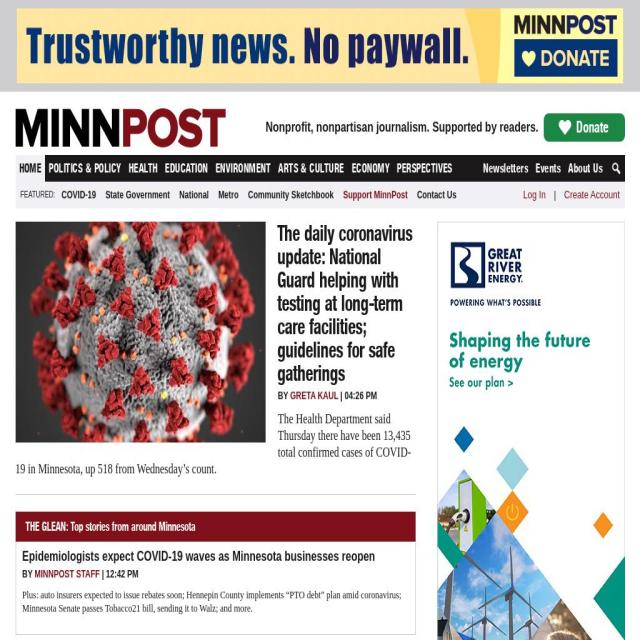button: (15, 222, 266, 446), (15, 511, 416, 542), (15, 108, 226, 151), (543, 112, 625, 142), (45, 154, 125, 182), (274, 154, 348, 182), (211, 154, 275, 182), (393, 154, 456, 182), (480, 154, 532, 182), (161, 154, 212, 182), (348, 154, 393, 182), (564, 154, 607, 182), (124, 154, 162, 182), (532, 154, 565, 182), (15, 154, 46, 182), (606, 154, 625, 182)
heading: (277, 221, 413, 640), (22, 548, 376, 564), (266, 119, 538, 135), (66, 518, 196, 534), (25, 518, 66, 534)
iframe: (437, 221, 625, 640), (17, 8, 623, 84)
image: (15, 222, 266, 443), (15, 109, 226, 148), (559, 120, 572, 135)
link: (248, 188, 334, 201), (105, 188, 170, 201), (343, 188, 408, 201), (34, 568, 100, 580), (564, 187, 619, 201), (290, 390, 339, 402), (417, 188, 457, 201), (62, 188, 96, 201), (179, 188, 209, 201), (523, 187, 546, 201), (218, 188, 239, 201)
text: (15, 410, 416, 478), (22, 587, 409, 615), (576, 118, 610, 138), (20, 188, 62, 202), (344, 390, 378, 402), (105, 568, 138, 580), (22, 568, 35, 580), (278, 390, 290, 402), (338, 390, 345, 402), (100, 568, 106, 580)
